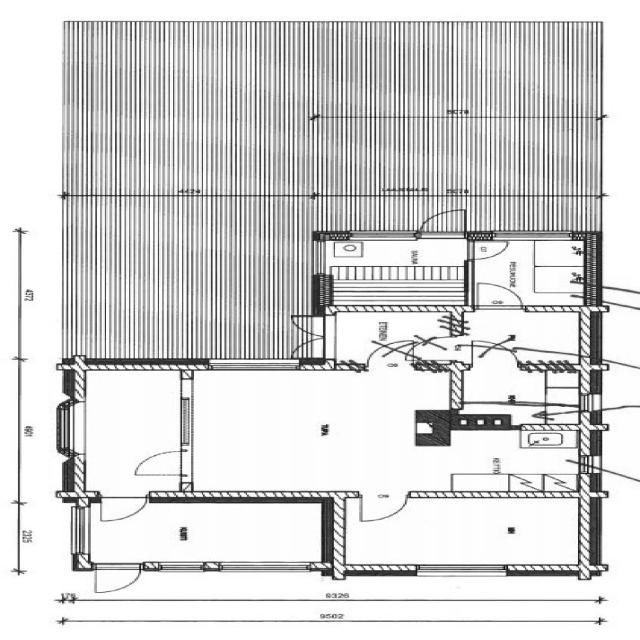door: (285, 314, 336, 358), (128, 448, 193, 478), (354, 493, 412, 524), (90, 563, 146, 595), (470, 280, 524, 311), (96, 496, 150, 524), (418, 209, 469, 237), (464, 238, 510, 262)
window: (51, 398, 90, 456), (408, 562, 512, 580), (215, 559, 316, 576), (204, 358, 305, 373), (66, 504, 92, 556), (492, 229, 575, 242), (151, 560, 210, 574), (342, 230, 417, 241), (326, 560, 352, 582), (580, 562, 610, 580)
zone: (185, 372, 436, 494), (340, 496, 592, 570), (450, 309, 590, 428), (88, 497, 328, 565), (71, 365, 195, 493), (417, 427, 588, 496), (323, 236, 468, 310), (470, 236, 593, 308), (323, 310, 459, 365)
